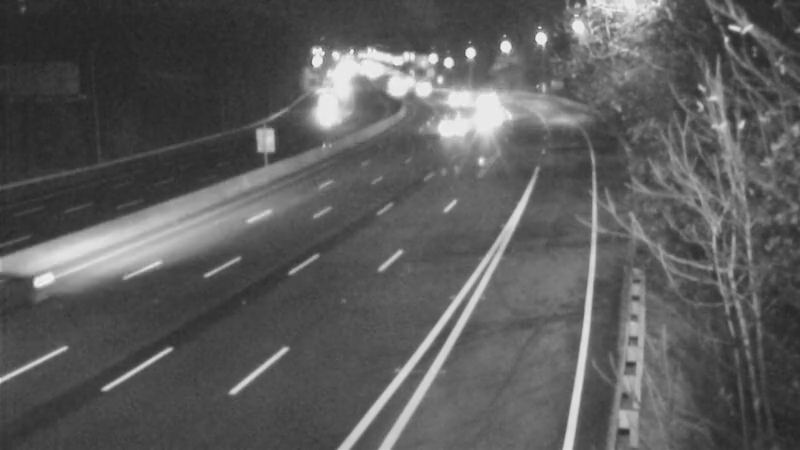vehicle: (397, 59, 447, 109), (370, 66, 420, 116), (428, 74, 478, 124), (457, 73, 507, 123), (464, 94, 514, 144), (417, 107, 467, 157)
